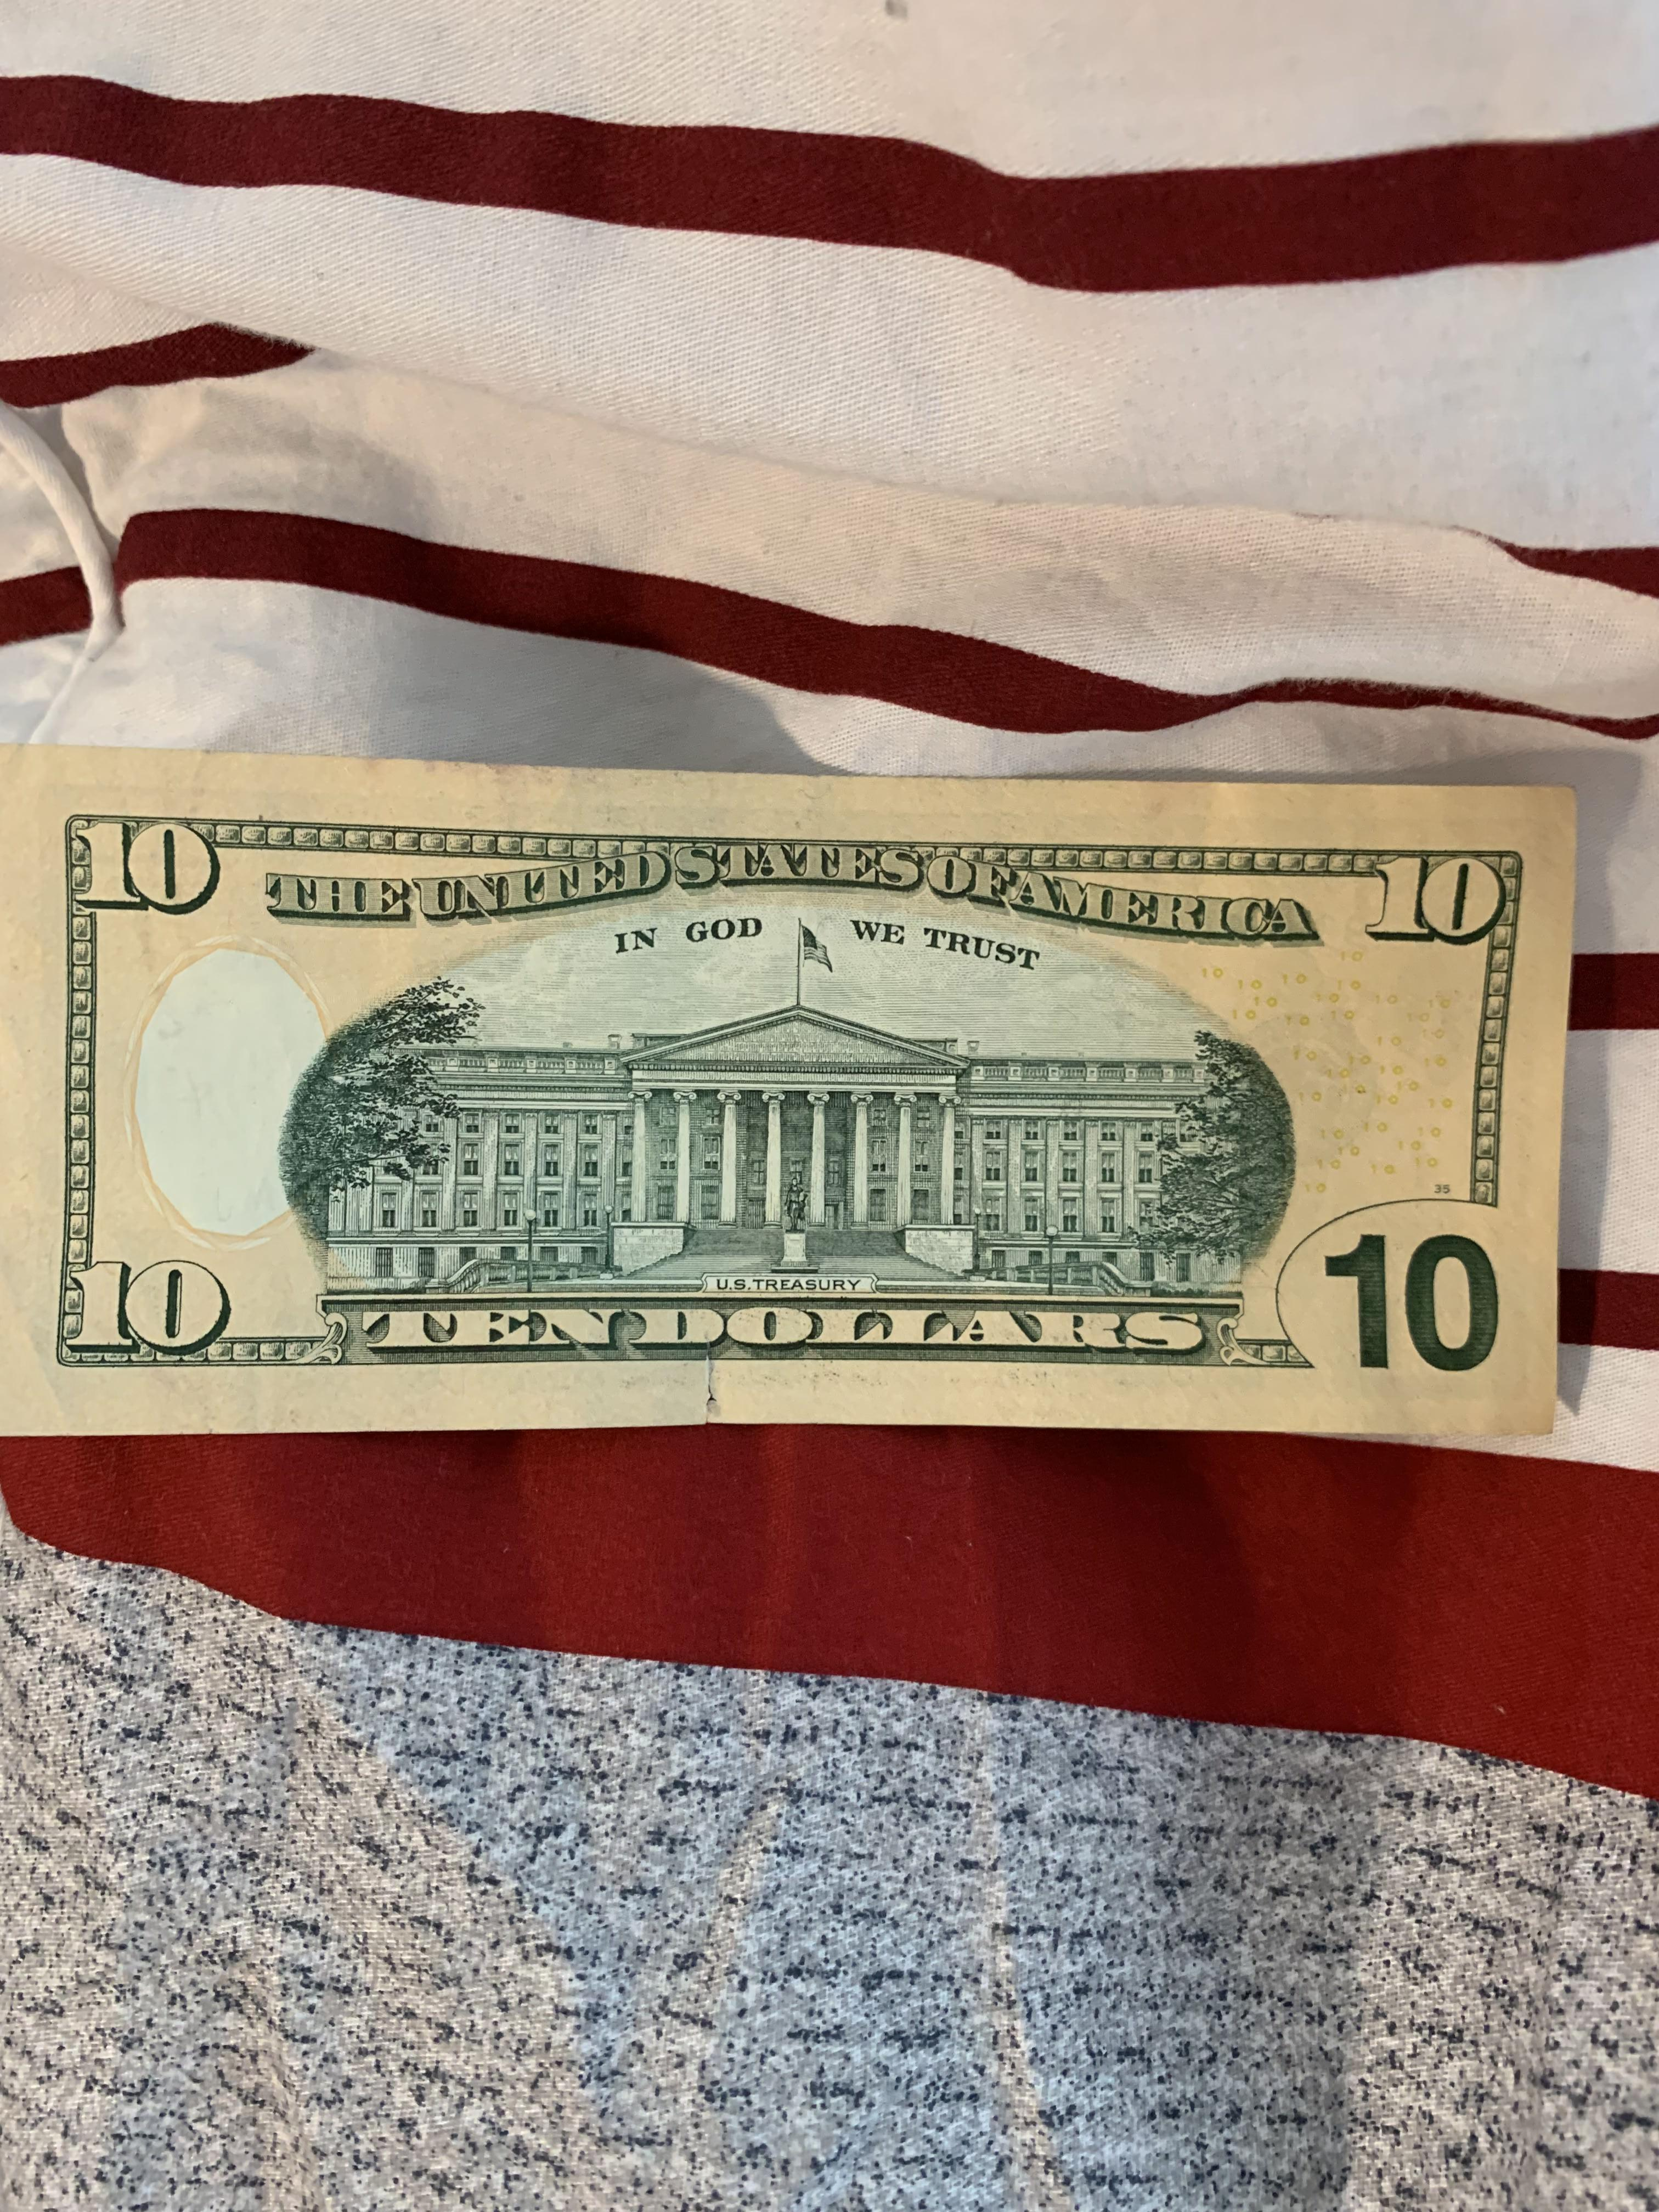TenBill: (2, 726, 1622, 1449)
